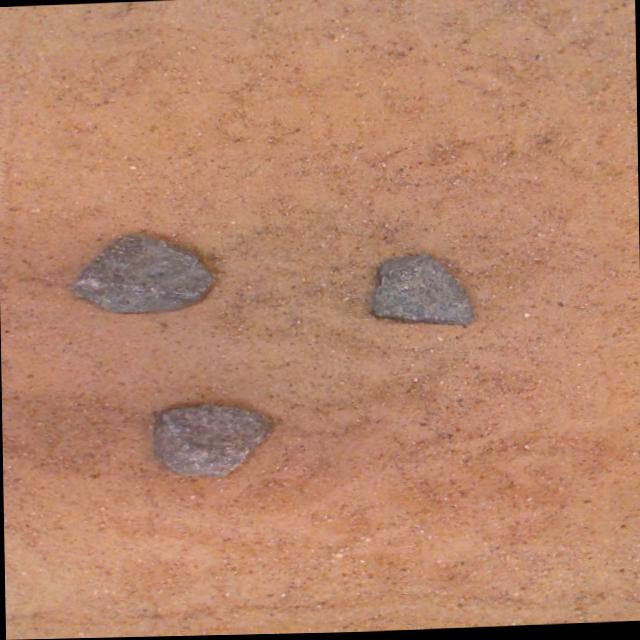rock: (74, 235, 213, 313), (155, 405, 272, 477), (373, 255, 475, 326)
